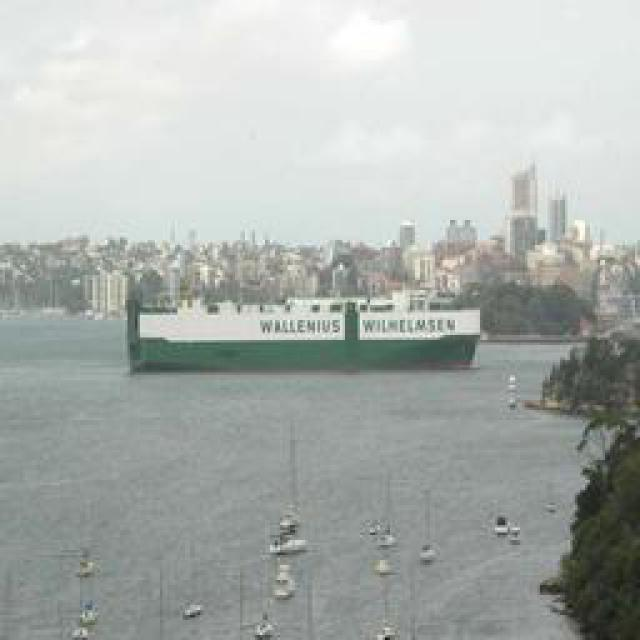Ship: (128, 289, 483, 372)
